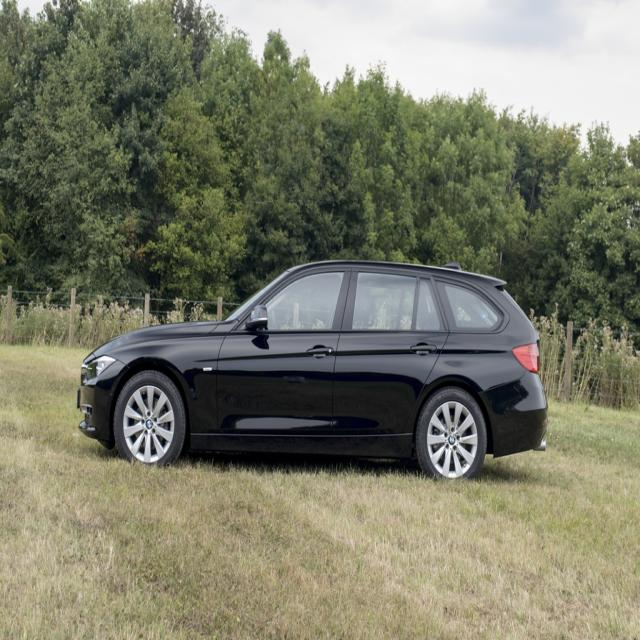car: (71, 254, 546, 483)
